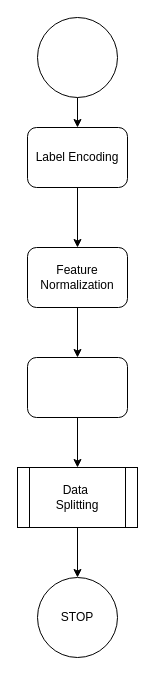
This 155x675 diagram has some shape labels left out. Here are the shapes that lost their labels. From the top down, the centre of each, then its label:
At (77,57): "START".
At (77,387): "Feature Reduction".
